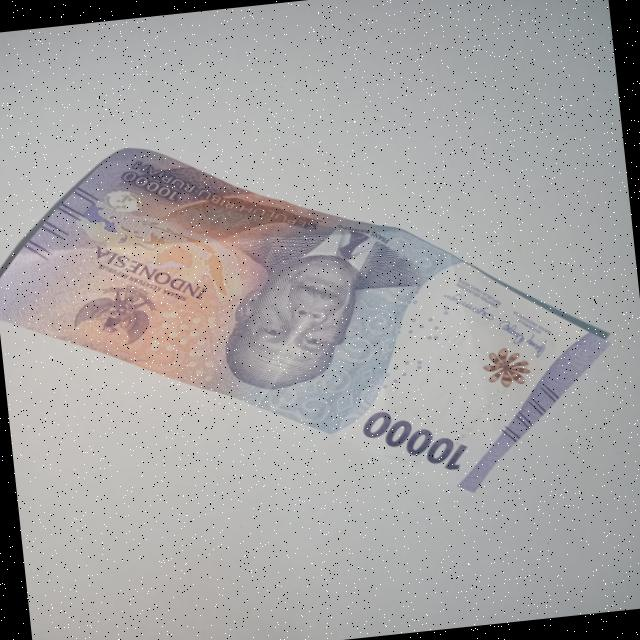10K: (0, 90, 637, 552)
